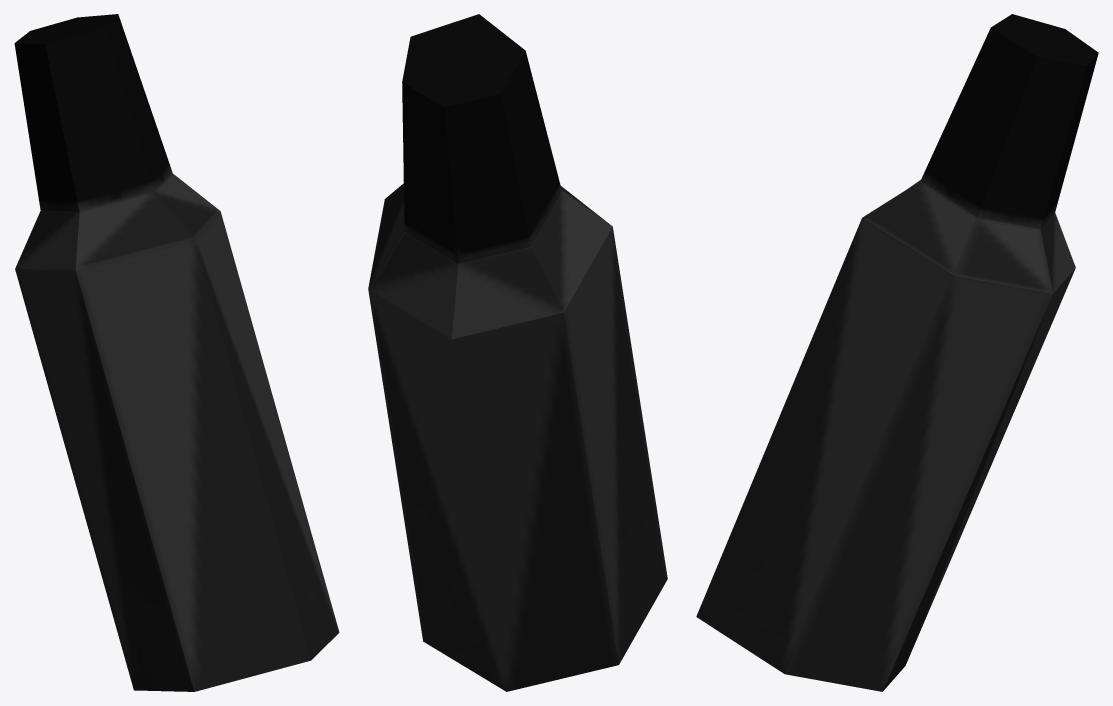
File: mesh20.dat.obj
3 views of the same model, side by side, from view 1: azimuth 30°, elevation 25°; view 2: azimuth 150°, elevation 25°; view 3: azimuth 270°, elevation 25° (orthographic). The views are drawn at different scales.
Visible parts, largest first — view 1: holoder_base_low; view 2: holoder_base_low; view 3: holoder_base_low.
Part boxes in pixels (bbox=[...]): holoder_base_low: bbox=[14, 14, 339, 691]; holoder_base_low: bbox=[368, 14, 667, 691]; holoder_base_low: bbox=[696, 14, 1098, 691].
Bounding box in the file's own units: 0.1676 × 0.4558 × 0.2643.
Materials: 1 (1 with a texture image).
